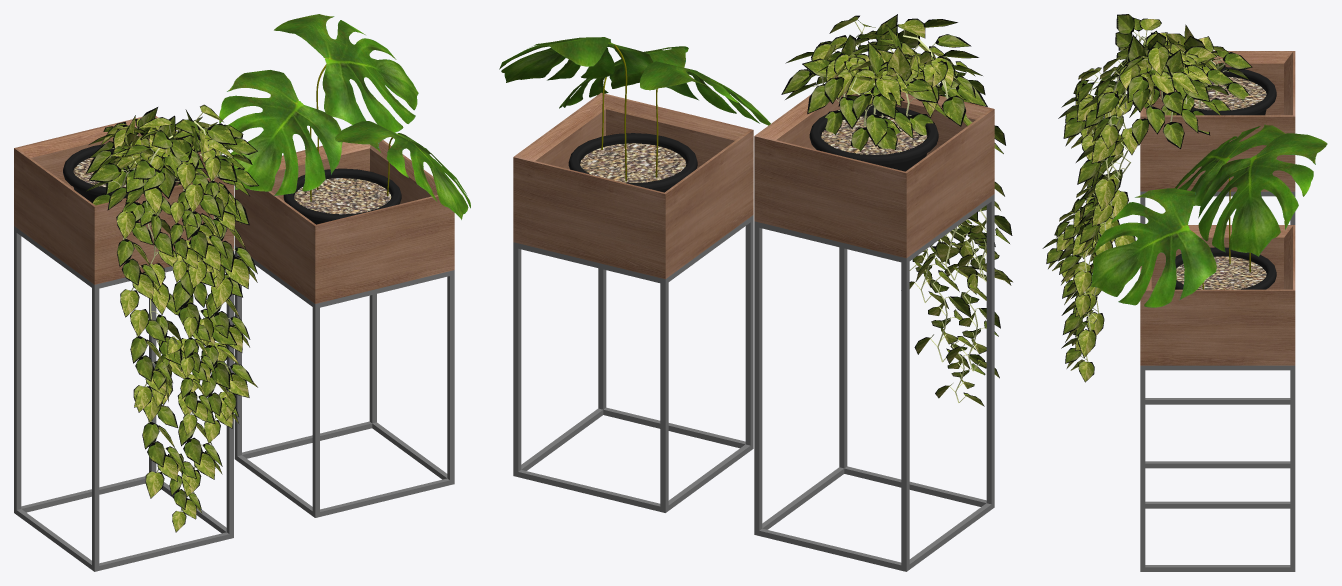
File: vegetation-plant-decimate-v01.glb
3 renders of one model, left to right at view 1: azimuth 30°, elevation 25°; view 2: azimuth 150°, elevation 25°; view 3: azimuth 270°, elevation 25°, orthographic. The views are drawn at different scales.
Visible parts, largest first — view 1: Object_1174, Object_1136, Monstera_Leaf_590, Monstera_Leaf_594, Object_1192, Monstera_Leaf_610, Object_1154, Object_1203, Object_1150, Object_1152, Object_1202, Object_1188 (+7 smaller); view 2: Object_1174, Object_1136, Monstera_Leaf_594, Object_1192, Object_1154, Object_1203, Object_1152, Object_1144, Object_1150, Monstera_Leaf_590, Object_1202, Object_1158 (+10 smaller); view 3: Object_1174, Monstera_Leaf_610, Object_1136, Monstera_Leaf_594, Object_1192, Monstera_Leaf_590, Object_1154, Object_1203, Object_1158, Object_1182, Object_1186, Object_1159 (+12 smaller).
Boxes of the visible parts, x1=… form: Object_1174: x1=234, y1=140, x2=454, y2=303; Object_1136: x1=14, y1=116, x2=233, y2=284; Monstera_Leaf_590: x1=219, y1=70, x2=342, y2=195; Monstera_Leaf_594: x1=274, y1=14, x2=418, y2=132; Object_1192: x1=234, y1=421, x2=454, y2=517; Monstera_Leaf_610: x1=334, y1=121, x2=470, y2=219; Object_1154: x1=14, y1=476, x2=233, y2=571; Object_1203: x1=294, y1=178, x2=391, y2=214; Object_1150: x1=92, y1=288, x2=99, y2=566; Object_1152: x1=14, y1=231, x2=21, y2=509; Object_1202: x1=283, y1=168, x2=401, y2=224; Object_1188: x1=312, y1=307, x2=319, y2=513; Object_1174: x1=513, y1=92, x2=753, y2=279; Object_1136: x1=754, y1=76, x2=994, y2=258; Monstera_Leaf_594: x1=499, y1=37, x2=653, y2=82; Object_1192: x1=513, y1=407, x2=753, y2=512; Object_1154: x1=754, y1=466, x2=994, y2=571; Object_1203: x1=580, y1=143, x2=686, y2=182; Object_1152: x1=901, y1=261, x2=909, y2=566; Object_1144: x1=754, y1=226, x2=762, y2=530; Object_1150: x1=986, y1=199, x2=994, y2=504; Monstera_Leaf_590: x1=640, y1=61, x2=770, y2=125; Object_1202: x1=568, y1=133, x2=697, y2=192; Object_1158: x1=809, y1=105, x2=938, y2=171; Object_1174: x1=1140, y1=225, x2=1295, y2=365; Monstera_Leaf_610: x1=1091, y1=188, x2=1216, y2=307; Object_1136: x1=1140, y1=51, x2=1295, y2=191; Monstera_Leaf_594: x1=1198, y1=133, x2=1327, y2=256; Object_1192: x1=1140, y1=501, x2=1295, y2=571; Monstera_Leaf_590: x1=1175, y1=124, x2=1285, y2=205; Object_1154: x1=1145, y1=398, x2=1290, y2=468; Object_1203: x1=1176, y1=256, x2=1266, y2=289; Object_1158: x1=1163, y1=67, x2=1276, y2=115; Object_1182: x1=1290, y1=370, x2=1295, y2=567; Object_1186: x1=1140, y1=370, x2=1145, y2=567; Object_1159: x1=1174, y1=77, x2=1266, y2=110.
Bounding box in the file's own units: 0.8297 × 0.8838 × 0.5523.
9 materials, 5 textured.
